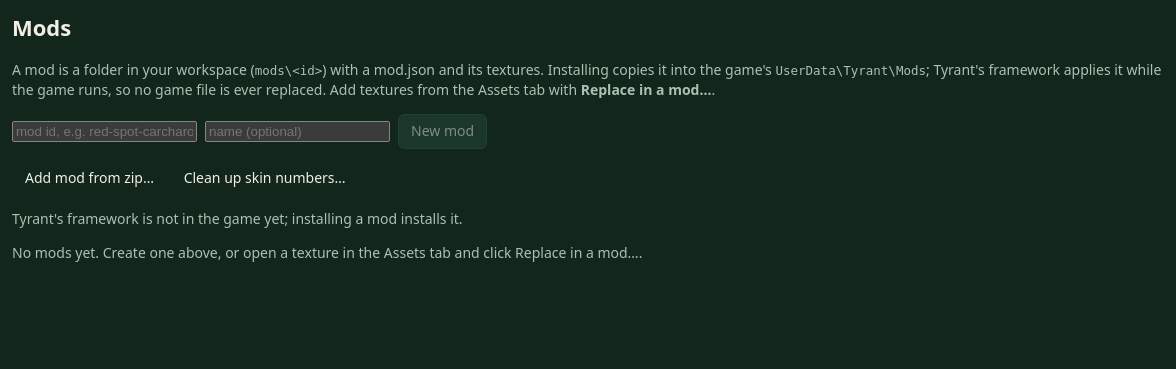
it: ModsView › creates a mod
Type "blue-stripes" into the field labelled "mod id" at (104, 132), box [12,121,197,142]
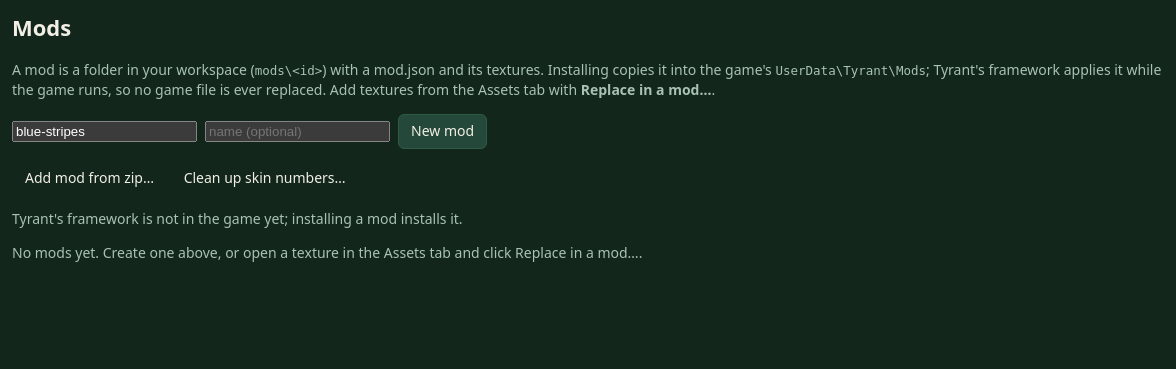
Click the button "New mod" at (443, 132), box [398,114,487,149]
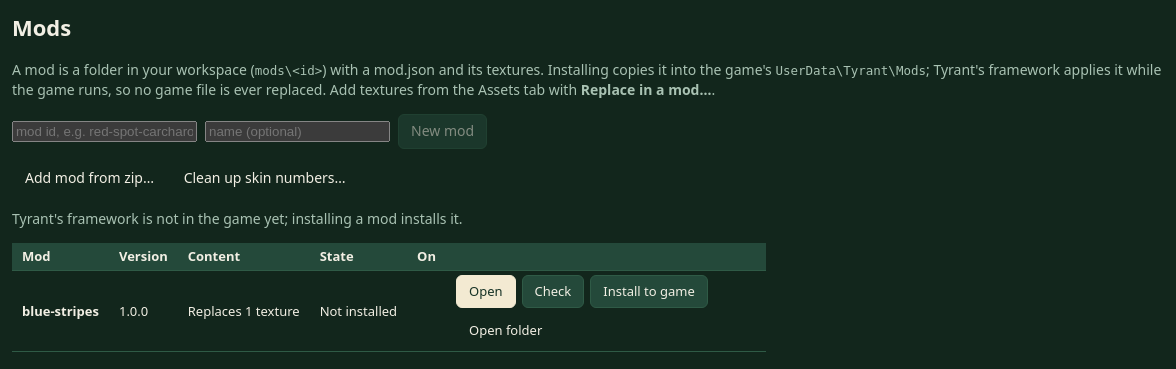
Now the text "blue-stripes" is shown, box [22,302,99,320]
